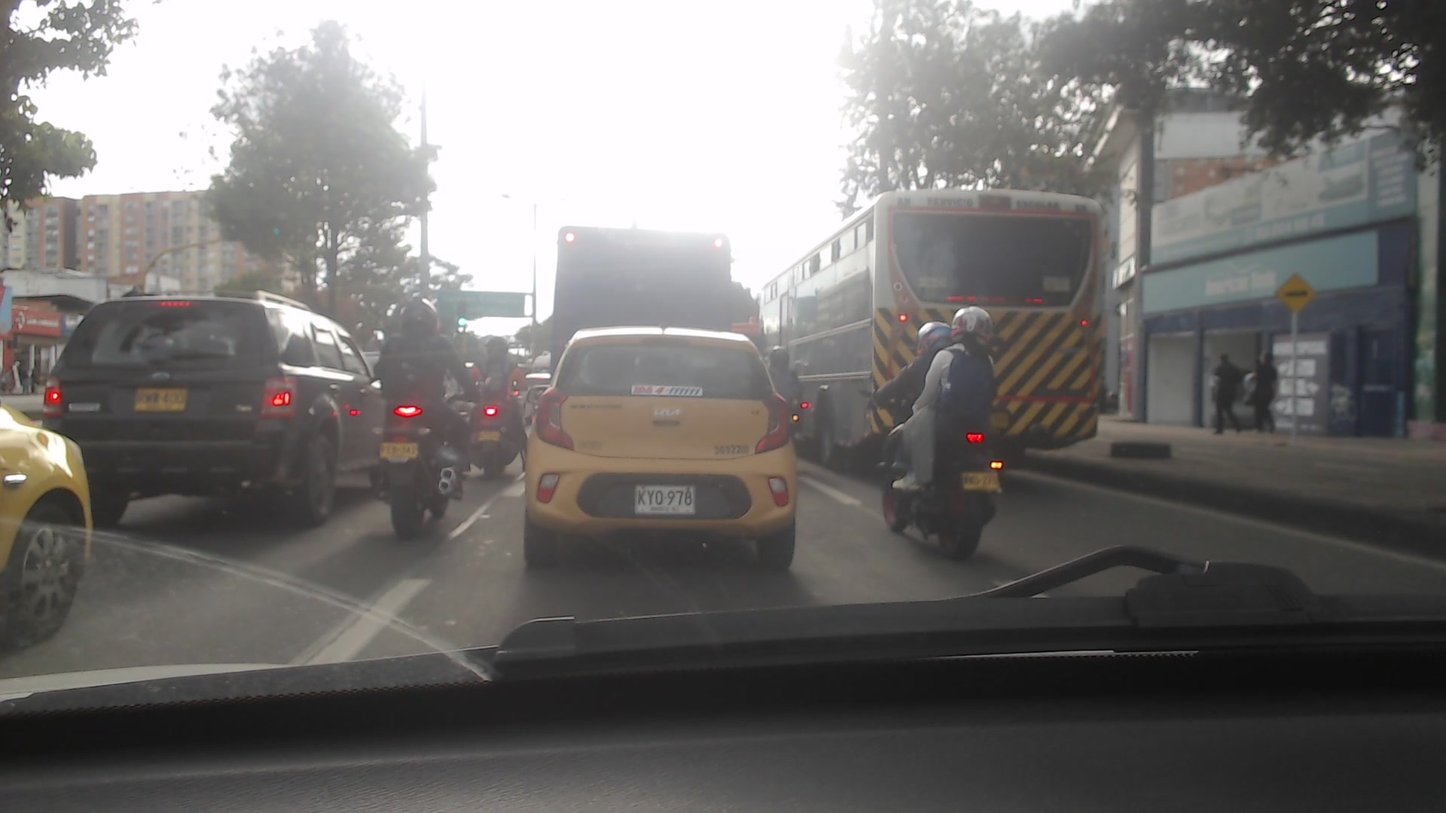bus: (765, 194, 1124, 463)
car: (54, 286, 384, 530), (518, 327, 805, 571)
motorcycle: (868, 418, 1009, 566), (383, 392, 486, 539)
person: (872, 306, 1009, 486), (374, 297, 487, 466), (1242, 347, 1280, 431), (1211, 356, 1241, 432)
truck: (553, 220, 745, 332)
